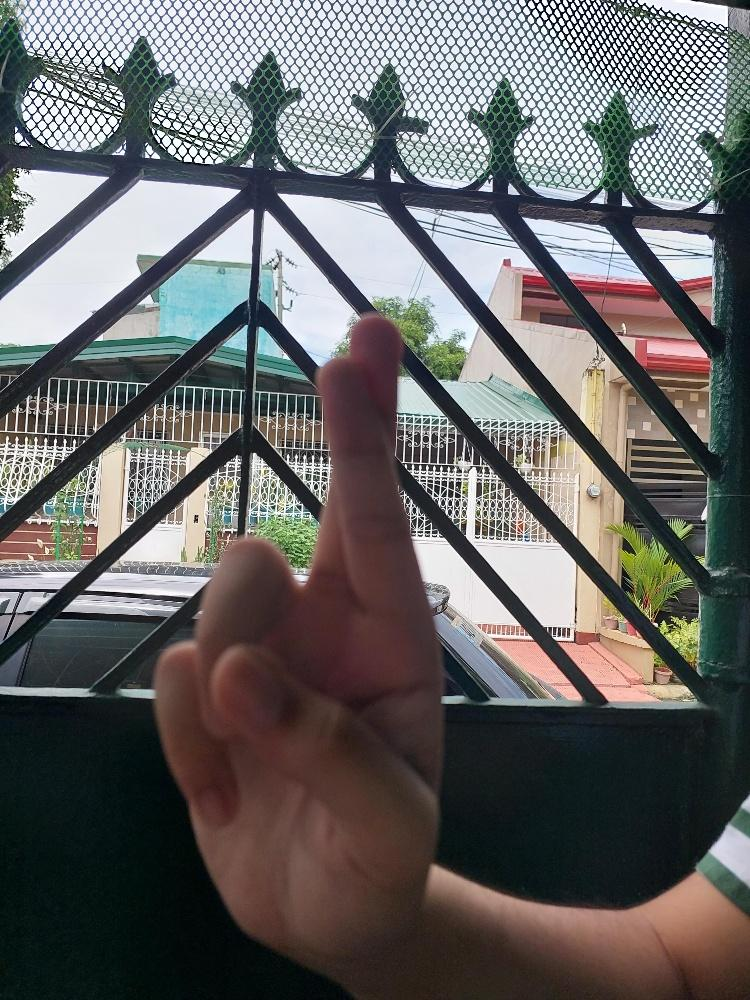r: (148, 310, 445, 968)
